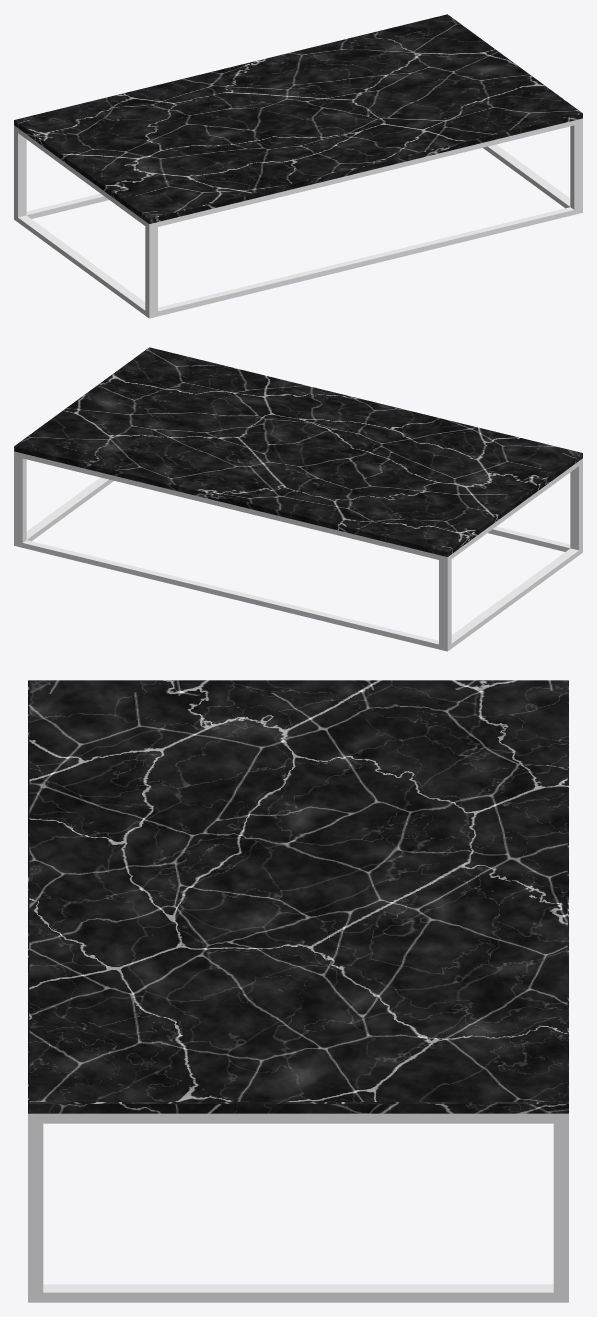
3 renders of one model, top to bottom at view 1: azimuth 30°, elevation 25°; view 2: azimuth 150°, elevation 25°; view 3: azimuth 270°, elevation 25°, orthographic. The views are drawn at different scales.
Visible parts, largest first — view 1: Material2.001; view 2: Material2.001; view 3: Material2.001.
Boxes of the visible parts, x1,y1,x2,y2 form: Material2.001: (14,14,582,318); Material2.001: (14,347,582,651); Material2.001: (28,680,568,1302).
Size of the model in its own units: 5.66 by 1.25 by 3.06.
2 materials, 1 textured.
